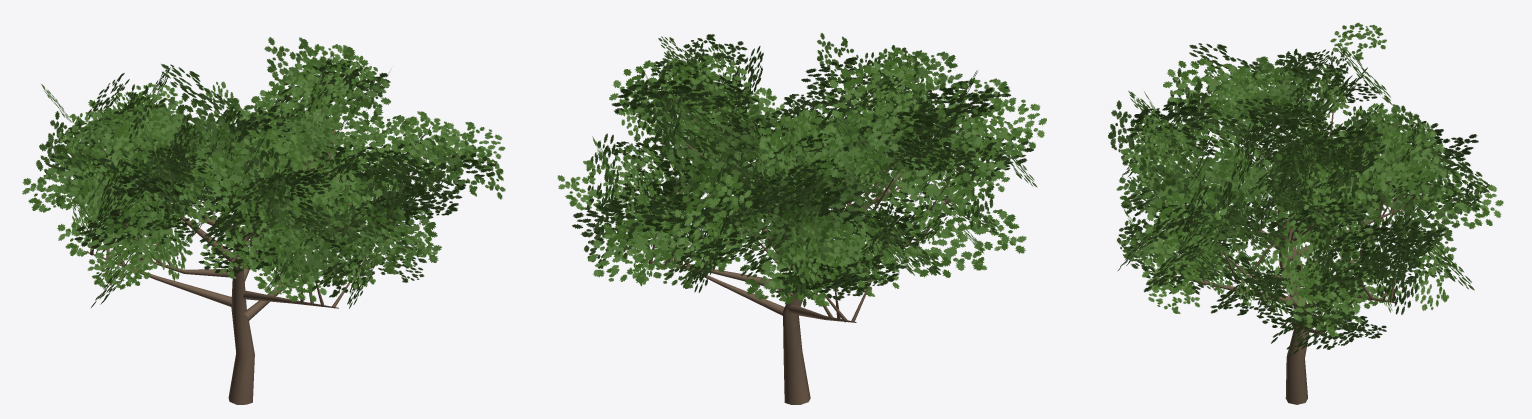
The model's file is oak-67-high.glb.
The picture shows the model from 3 angles, left to right: view 1: azimuth 30°, elevation 25°; view 2: azimuth 150°, elevation 25°; view 3: azimuth 270°, elevation 25°; orthographic projection. The views are drawn at different scales.
Parts seen in each view (by area): view 1: LeafCards, Wood; view 2: LeafCards, Wood; view 3: LeafCards, Wood.
Part boxes in pixels (box(x1,y1,x2,y2)): LeafCards: box(22, 37, 505, 308); Wood: box(83, 103, 424, 404); LeafCards: box(557, 33, 1046, 307); Wood: box(637, 113, 969, 404); LeafCards: box(1108, 22, 1503, 354); Wood: box(1149, 98, 1436, 404).
Size of the model in its own units: 20.42 by 16.08 by 19.17.
Materials: 2 (1 with a texture image).
